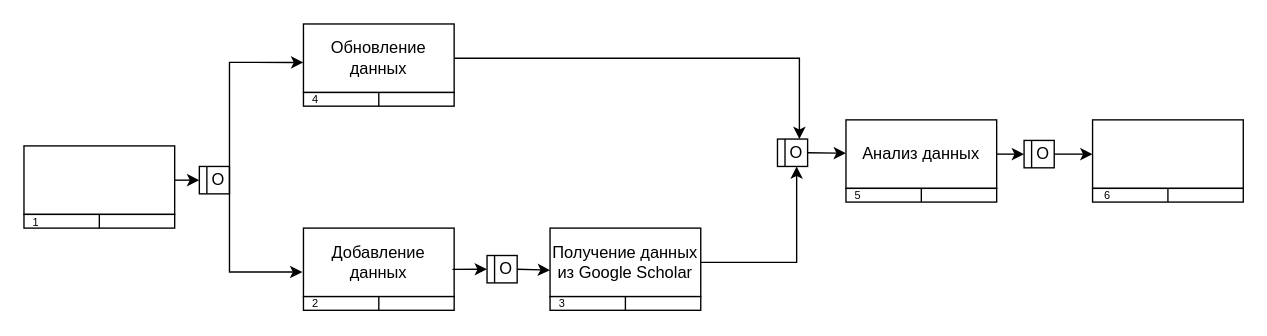
Image size: 1267x336. Some labels were removed from this diagram. Each missing label, with the centre of its shape:
"Ввод автора" belongs at point 99,179.
"Генерация отчета" belongs at point 1167,153.
